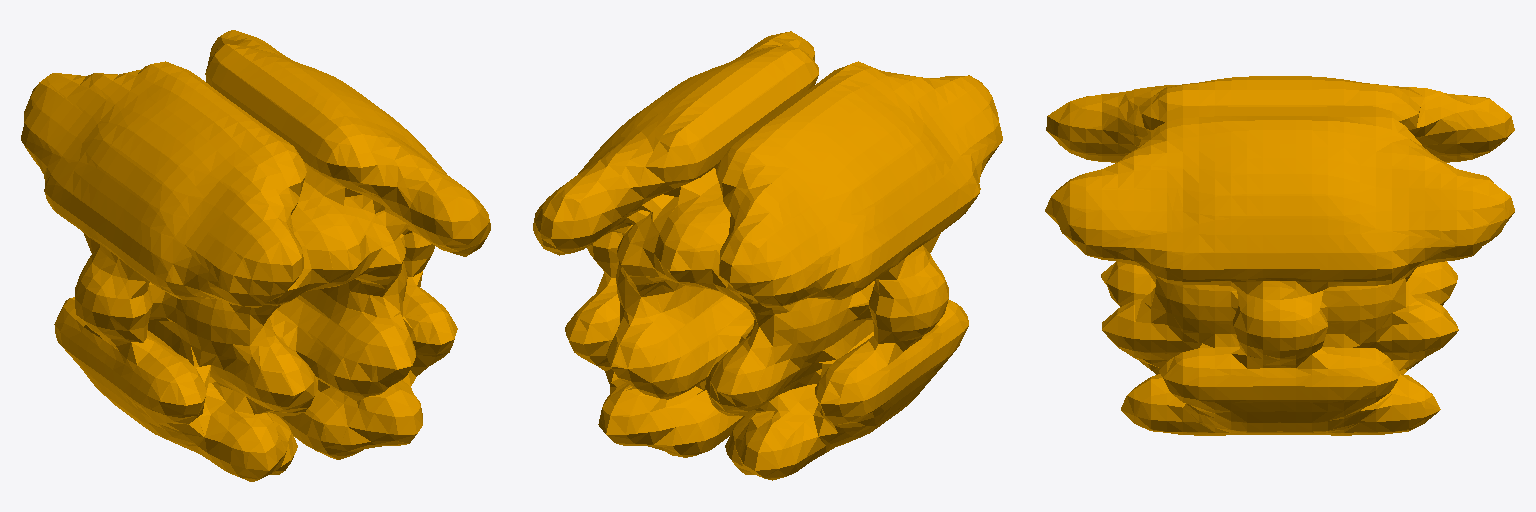
robot.urdf — H20_1:
<?xml version="1.0"?>
<robot name="H20_1">
  <link name="base_link">
    <inertial>
      <mass value="0.06543" />
      <origin xyz="0 0 0" />
      <inertia  ixx="0.0002" ixy="0.0"  ixz="0.0"  iyy="0.0002"  iyz="0.0" izz="0.0002" />
    </inertial>
    <visual>
      <geometry>
        <mesh filename="../../../meshes/egad/train/H20_1.obj" />
      </geometry>
    </visual>
    <collision>
      <geometry>
        <mesh filename="../../../meshes/egad/train/H20_1.obj" />
      </geometry>
    </collision>
  </link>
</robot>

--- Render facts (derived) ---
Views: 3 orthographic renders of the robot side by side, from view 1: azimuth 30°, elevation 25°; view 2: azimuth 150°, elevation 25°; view 3: azimuth 270°, elevation 25°.
Model H20_1 with 1 links and 0 joints (none), rooted at base_link, posed every joint at zero.
Visible links, largest first — view 1: base_link; view 2: base_link; view 3: base_link.
Link boxes in pixels (x1,y1,x2,y2): base_link: (21, 30, 490, 481); base_link: (533, 31, 1002, 480); base_link: (1045, 76, 1514, 435).
Bounding box of the posed robot: 0.0596 × 0.075 × 0.0556 m (x, y, z).
Meshes: 1 distinct files referenced, 1 mesh visuals loaded (1 OBJ).